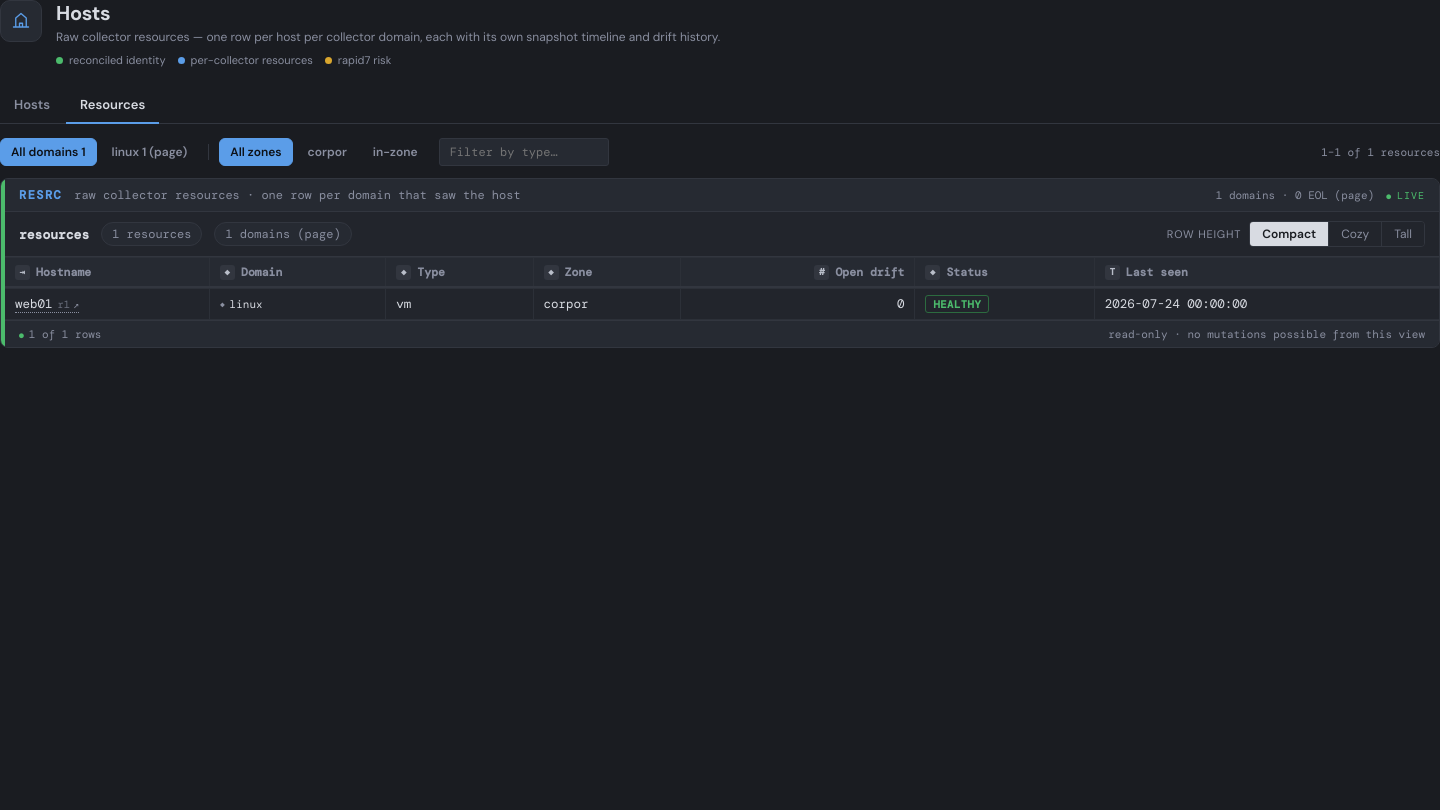
it: Resources tab — drawer drift/snapshot fetch-failure handling (ported from Resources.test.tsx) › shows a visible error, NOT the reassuring empty-state copy, when the snapshot fetch fails
expect the button "web01r1" is shown: met, box [15, 296, 79, 312]
Click the text "vm".
click(722, 304)  # box [5, 288, 1439, 320]
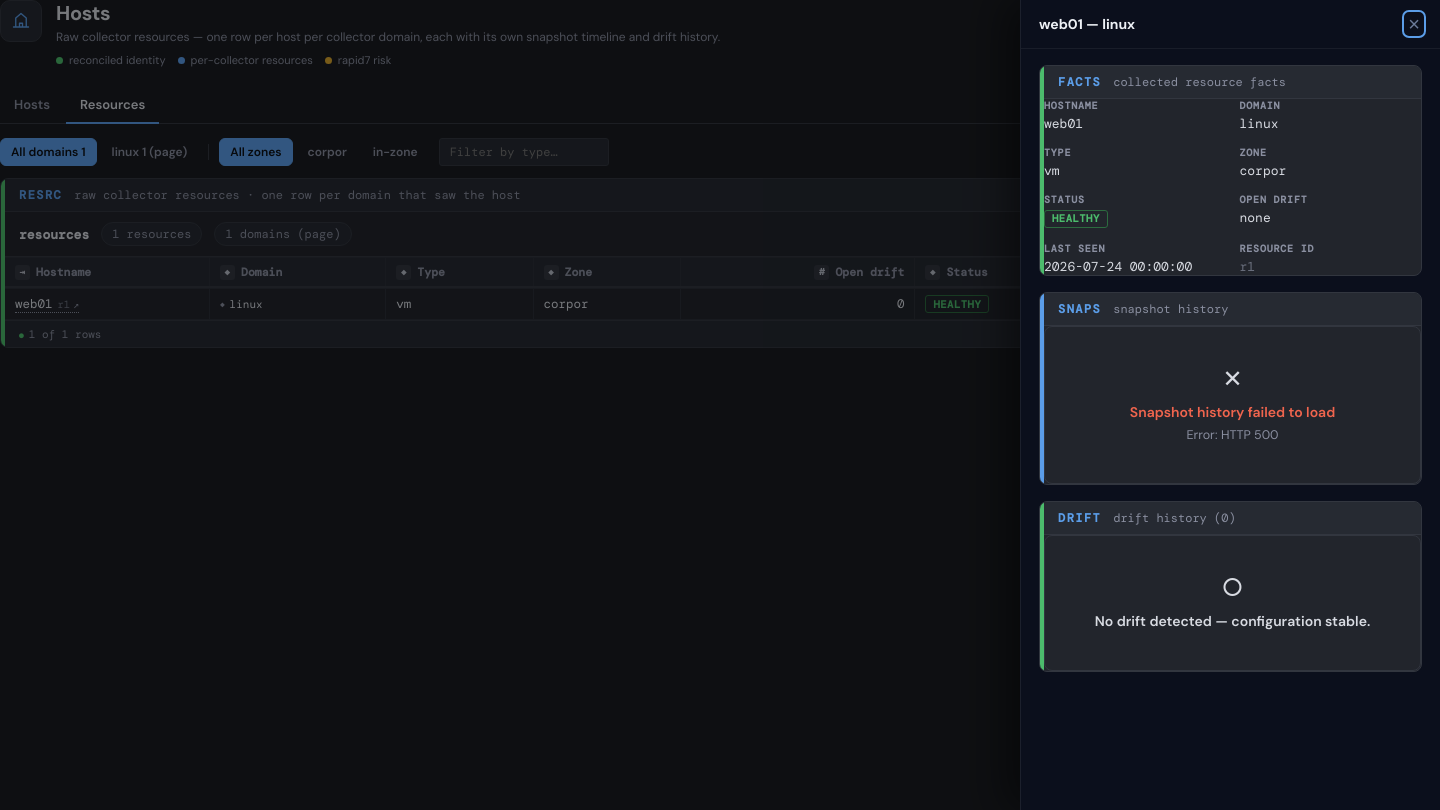
expect the text "Snapshot history failed to load" is shown: met, box [1130, 402, 1335, 420]
